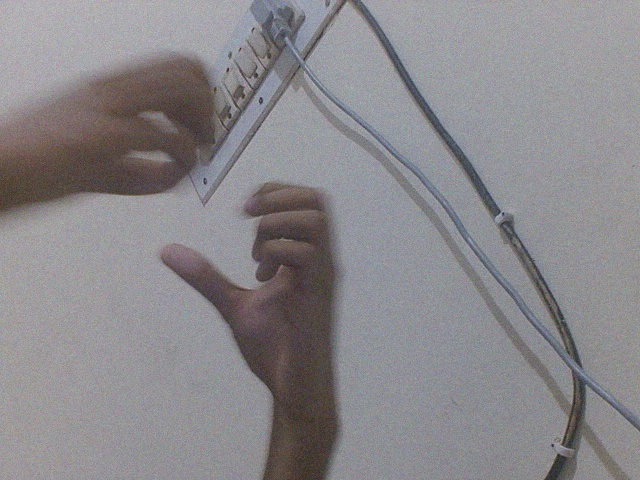hand: (158, 176, 358, 442), (1, 50, 223, 206)
